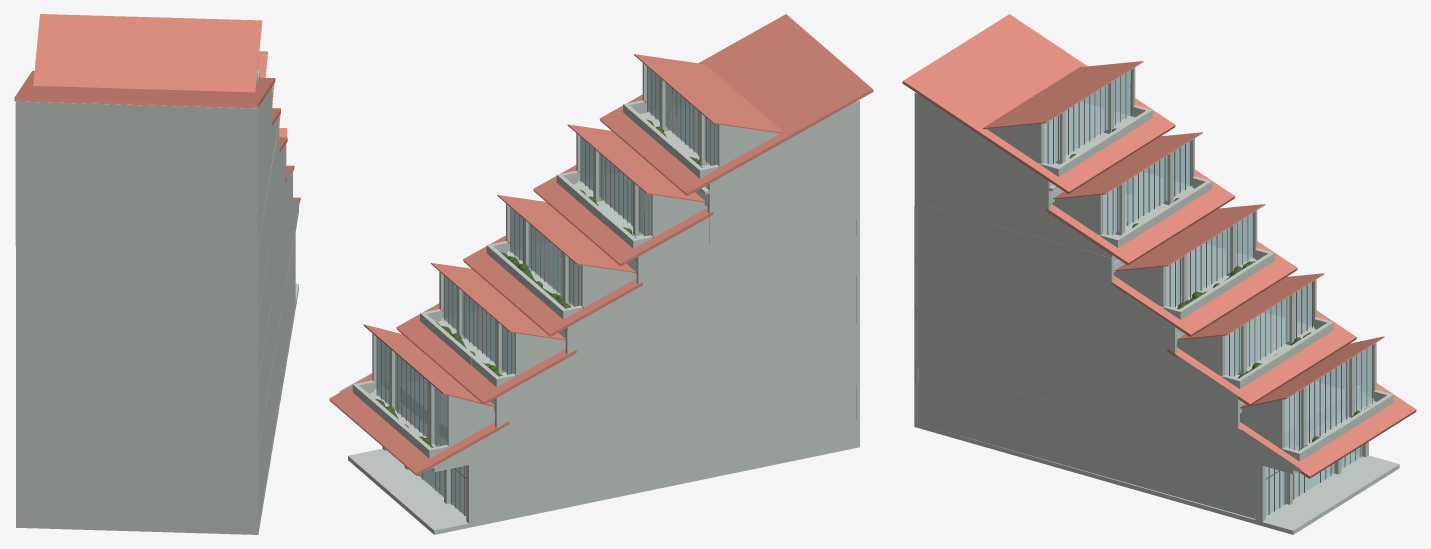
3 views of the same model, side by side, from view 1: azimuth 30°, elevation 25°; view 2: azimuth 150°, elevation 25°; view 3: azimuth 270°, elevation 25° (orthographic). The views are drawn at different scales.
Visible parts, largest first — view 1: Object.2638, Object.2792, Object.2666, Object.2711, Object.2812, Object.2808, Object.2631, Object.2801, Object.2796, Object.2664, Object.2662, Object.2665 (+1 smaller); view 2: Object.2813, Object.2809, Object.2802, Object.2711, Object.2792, Object.2797, Object.2631, Object.2666, Object.2712, Object.2736, Object.2803, Object.2783 (+32 smaller); view 3: Object.2812, Object.2808, Object.2711, Object.2801, Object.2792, Object.2796, Object.2631, Object.2764, Object.2666, Object.2712, Object.2736, Object.2806 (+33 smaller).
Part boxes in pixels (x1=…): Object.2638: x1=16, y1=246, x2=258, y2=529; Object.2792: x1=15, y1=87, x2=272, y2=247; Object.2666: x1=33, y1=14, x2=262, y2=92; Object.2711: x1=14, y1=71, x2=275, y2=108; Object.2812: x1=258, y1=231, x2=294, y2=525; Object.2808: x1=258, y1=179, x2=292, y2=448; Object.2631: x1=16, y1=283, x2=298, y2=534; Object.2801: x1=258, y1=154, x2=286, y2=378; Object.2796: x1=258, y1=121, x2=279, y2=312; Object.2664: x1=15, y1=240, x2=258, y2=252; Object.2662: x1=16, y1=208, x2=298, y2=457; Object.2665: x1=15, y1=91, x2=272, y2=184; Object.2813: x1=477, y1=385, x2=856, y2=521; Object.2809: x1=495, y1=328, x2=856, y2=454; Object.2802: x1=565, y1=275, x2=855, y2=383; Object.2711: x1=599, y1=14, x2=873, y2=195; Object.2792: x1=641, y1=95, x2=859, y2=249; Object.2797: x1=636, y1=219, x2=856, y2=315; Object.2631: x1=348, y1=443, x2=859, y2=534; Object.2666: x1=634, y1=54, x2=784, y2=133; Object.2712: x1=533, y1=165, x2=713, y2=266; Object.2736: x1=463, y1=235, x2=642, y2=336; Object.2803: x1=396, y1=303, x2=576, y2=404; Object.2783: x1=329, y1=374, x2=509, y2=475; Object.2812: x1=918, y1=367, x2=1255, y2=518; Object.2808: x1=918, y1=312, x2=1239, y2=453; Object.2711: x1=902, y1=14, x2=1175, y2=194; Object.2801: x1=918, y1=261, x2=1176, y2=381; Object.2792: x1=914, y1=92, x2=1152, y2=239; Object.2796: x1=918, y1=203, x2=1113, y2=311; Object.2631: x1=914, y1=423, x2=1399, y2=534; Object.2764: x1=1284, y1=345, x2=1371, y2=450; Object.2666: x1=982, y1=61, x2=1143, y2=128; Object.2712: x1=1045, y1=169, x2=1235, y2=265; Object.2736: x1=1111, y1=241, x2=1297, y2=337; Object.2806: x1=917, y1=308, x2=1315, y2=403.
Size of the model in its own units: 2.5 by 2.19 by 2.97.
